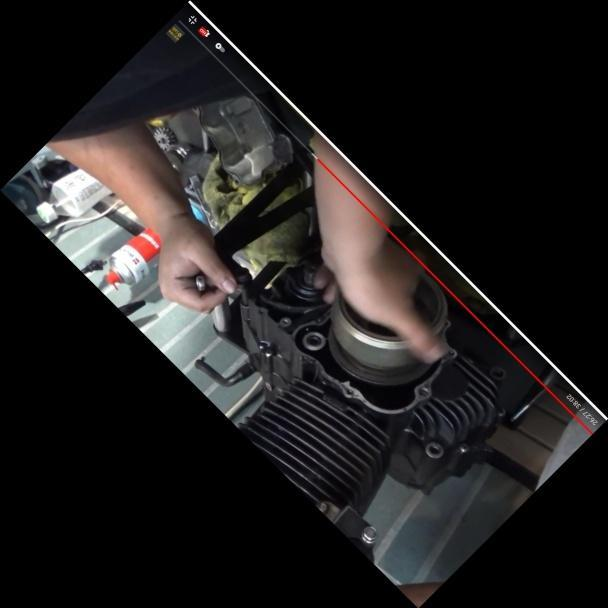hole: (302, 329, 324, 351), (424, 439, 444, 459), (488, 362, 508, 381), (414, 382, 431, 400), (277, 312, 294, 329), (344, 385, 356, 396)
